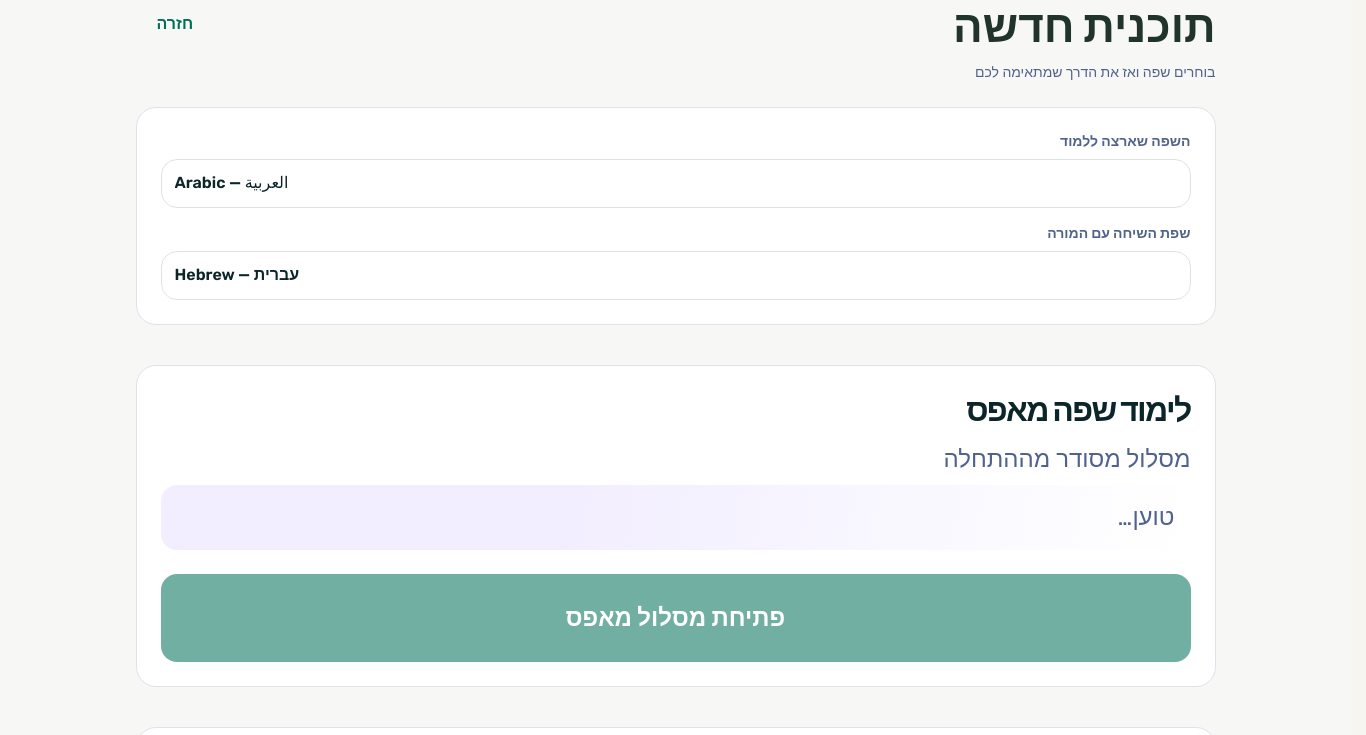
Test case: program chooser DEV design=false › switches the published pair on older servers but verifies the catalog before opening
Focus the dropdown labelled "השפה שארצה ללמוד" at (676, 183), box [160,159,1190,208]
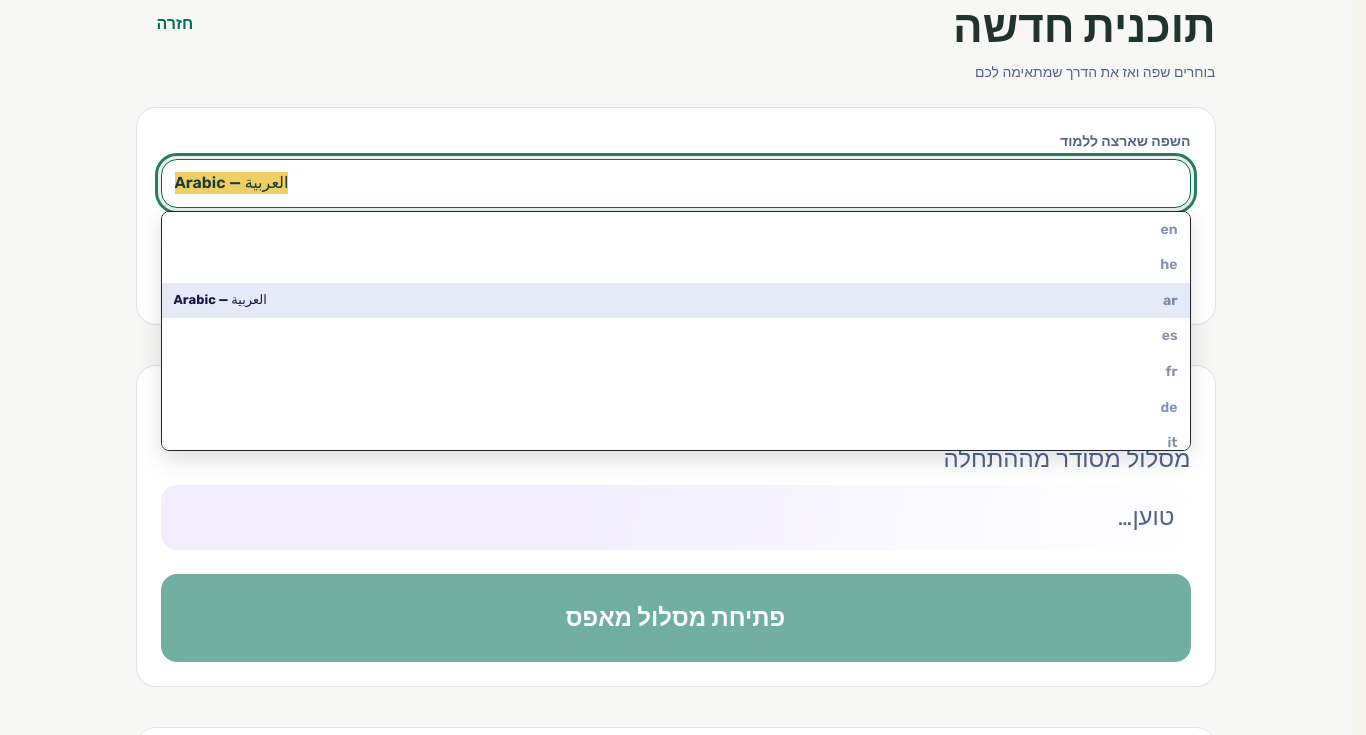
Click the option "English en" at (197, 229), box [174,221,1178,238]
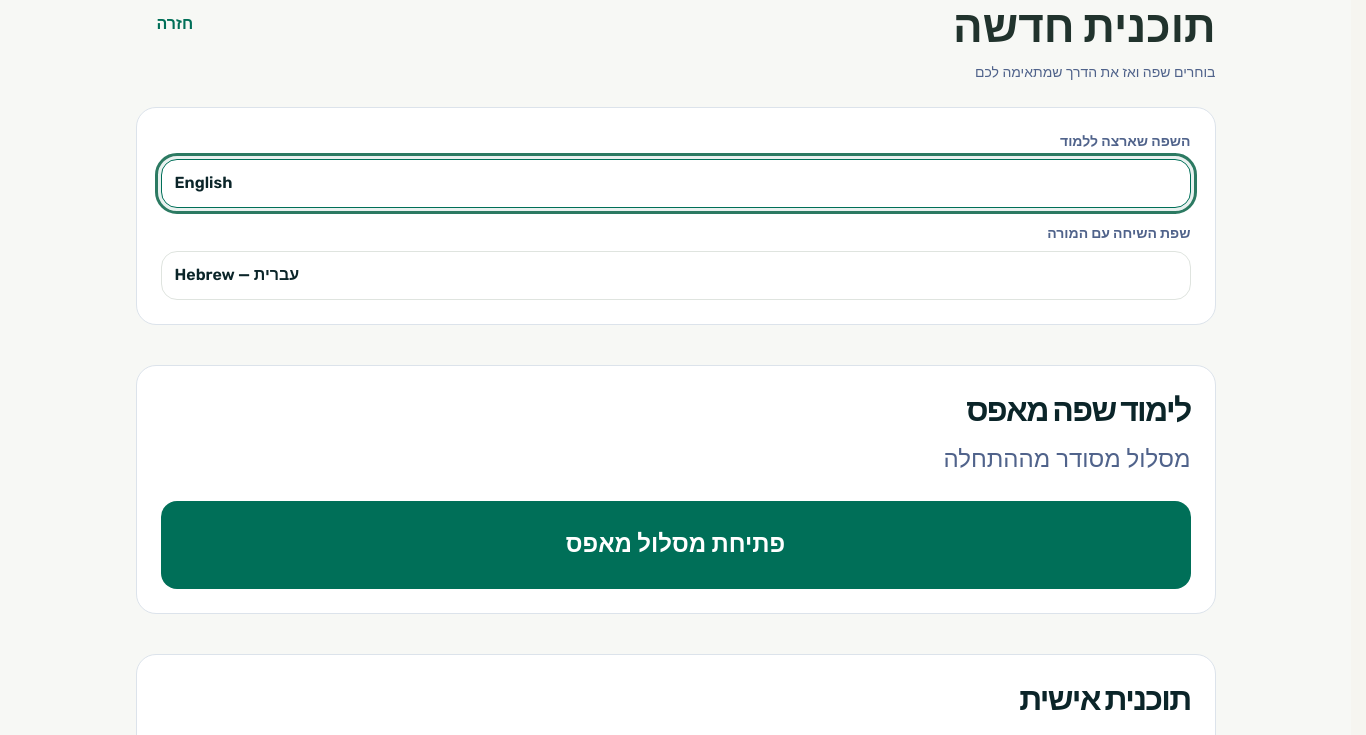
Result: the button "פתיחת מסלול מאפס" is enabled
Click the button "פתיחת מסלול מאפס" at (676, 545), box [160,501,1190,589]
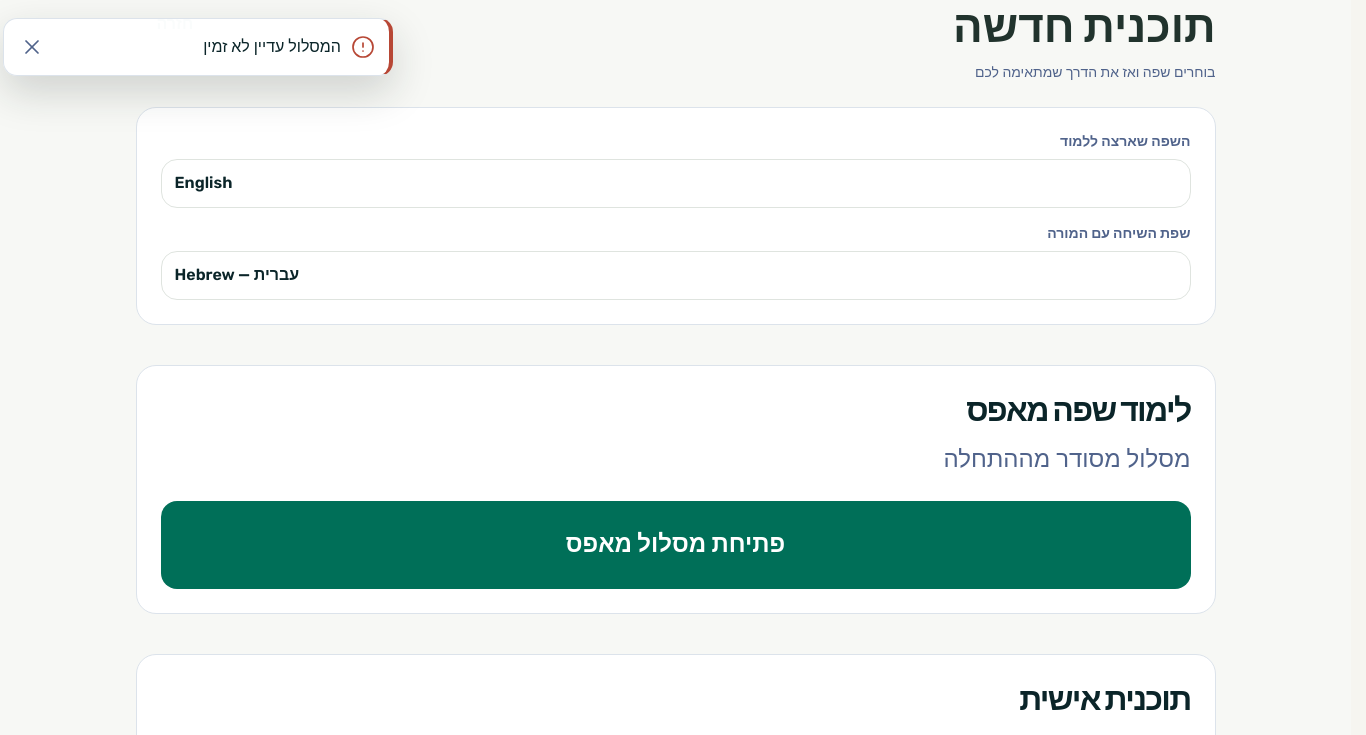
Result: the text "המסלול עדיין לא זמין" is shown at [203,37,341,56]
